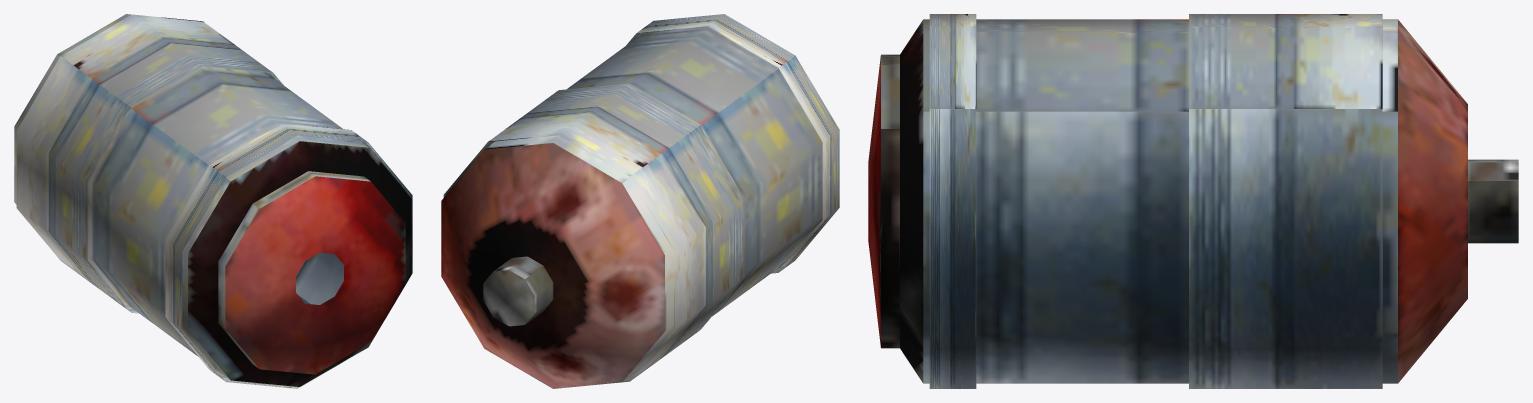
Rendered from PistolFix.fbx.
3 views of the same model, side by side, from view 1: azimuth 30°, elevation 25°; view 2: azimuth 150°, elevation 25°; view 3: azimuth 270°, elevation 25° (orthographic). The views are drawn at different scales.
Parts seen in each view (by area): view 1: freeze_gun_002; view 2: freeze_gun_002; view 3: freeze_gun_002.
Boxes of the visible parts, <box> form: freeze_gun_002: <box>14,14,412,388</box>; freeze_gun_002: <box>441,14,839,388</box>; freeze_gun_002: <box>868,14,1518,388</box>.
Bounding box in the file's own units: 11.72 × 12.33 × 20.99.
